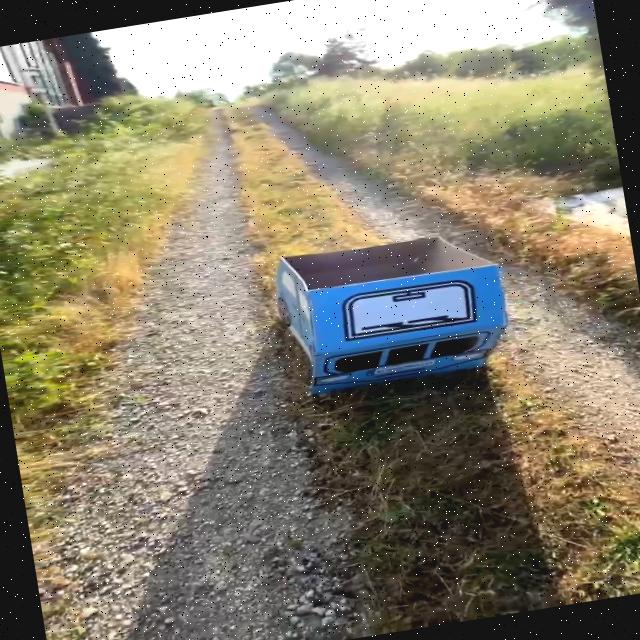blue_car: (233, 198, 544, 450)
